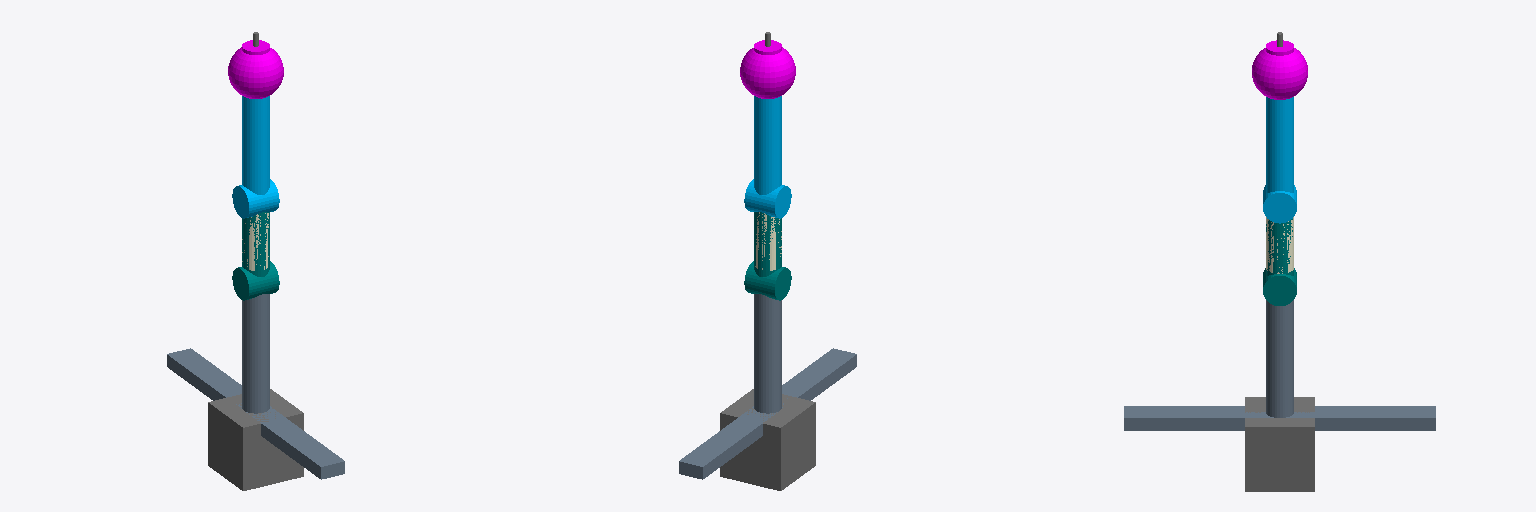
URDF robot description (test_robot):
<?xml version="1.0" ?>
<robot name="test_robot">
    <link name="base_link">
        <inertial>
            <mass value="1.0"/>
            <inertia ixx="0.010416666666666666" iyy="0.010416666666666666" izz="0.010416666666666666" ixy="0.0" ixz="0.0" iyz="0.0"/>
            <origin xyz="0 0 0" rpy="0 0 0"/>
        </inertial>
        <visual>
            <origin xyz="0 0 0" rpy="0 0 0"/>
            <geometry>
                <box size="0.25 0.25 0.25"/>
            </geometry>
            <material name="gray">
                <color rgba="0.5 0.5 0.5 1"/>
            </material>
        </visual>
    </link>
    <joint name="joint0_fixed" type="fixed">
        <parent link="base_link"/>
        <child link="link0_fixed"/>
        <origin xyz="0 0 0.125" rpy="0 0 0"/>
    </joint>
    <link name="link0_fixed">
        <inertial>
            <mass value="1.0"/>
            <inertia ixx="0.10166666666666668" iyy="0.10166666666666668" izz="0.10166666666666668" ixy="0.0" ixz="0.0" iyz="0.0"/>
            <origin xyz="0 0 -0.025" rpy="0 0 0"/>
        </inertial>
        <visual>
            <origin xyz="0 0 -0.025" rpy="0 0 0"/>
            <geometry>
                <box size="0.1 1.1 0.05"/>
            </geometry>
            <material name="lightslategrey">
                <color rgba="0.4666666666666667 0.5333333333333333 0.6 1.0"/>
            </material>
        </visual>
        <collision>
            <origin xyz="0 0 -0.025" rpy="0 0 0"/>
            <geometry>
                <box size="0.1 1.1 0.05"/>
            </geometry>
        </collision>
    </link>
    <joint name="joint0" type="prismatic">
        <parent link="link0_fixed"/>
        <child link="link0"/>
        <origin xyz="0 0 0" rpy="0 0 0"/>
        <axis xyz="0 1 0"/>
        <limit lower="-0.5" upper="0.5" effort="10" velocity="1"/>
    </joint>
    <link name="link0">
        <inertial>
            <mass value="1.0"/>
            <inertia ixx="0.021458333333333333" iyy="0.021458333333333333" izz="0.0012500000000000002" ixy="0.0" ixz="0.0" iyz="0.0"/>
            <origin xyz="0 0 0.25" rpy="0 0 0"/>
        </inertial>
        <visual>
            <origin xyz="0 0 0.25" rpy="0 0 0"/>
            <geometry>
                <cylinder length="0.5" radius="0.05"/>
            </geometry>
            <material name="lightslategrey">
                <color rgba="0.4666666666666667 0.5333333333333333 0.6 1.0"/>
            </material>
        </visual>
        <collision>
            <origin xyz="0 0 0.25" rpy="0 0 0"/>
            <geometry>
                <cylinder length="0.5" radius="0.05"/>
            </geometry>
        </collision>
    </link>
    <joint name="joint_viz1" type="fixed">
        <parent link="link0"/>
        <child link="joint_viz_link1"/>
        <origin xyz="0 0 0.5" rpy="0 0 0"/>
    </joint>
    <link name="joint_viz_link1">
        <inertial>
            <mass value="0.0"/>
            <inertia ixx="0.0" iyy="0.0" izz="0.0" ixy="0.0" ixz="0.0" iyz="0.0"/>
            <origin xyz="0 0 0" rpy="0 1.57 0"/>
        </inertial>
        <visual>
            <origin xyz="0 0 0" rpy="0 1.57 0"/>
            <geometry>
                <cylinder length="0.125" radius="0.06"/>
            </geometry>
            <material name="darkcyan">
                <color rgba="0.0 0.5450980392156862 0.5450980392156862 1.0"/>
            </material>
        </visual>
    </link>
    <joint name="joint1" type="revolute">
        <parent link="link0"/>
        <child link="link1"/>
        <origin xyz="0 0 0.5" rpy="0 0 0"/>
        <axis xyz="1 0 0"/>
        <limit lower="-3.14" upper="3.14" effort="10" velocity="1"/>
    </joint>
    <link name="link1">
        <inertial>
            <mass value="1.0"/>
            <inertia ixx="0.008125" iyy="0.008125" izz="0.0012500000000000002" ixy="0.0" ixz="0.0" iyz="0.0"/>
            <origin xyz="0 0 0.15" rpy="0 0 0"/>
        </inertial>
        <visual>
            <origin xyz="0 0 0.15" rpy="0 0 0"/>
            <geometry>
                <cylinder length="0.3" radius="0.05"/>
            </geometry>
            <material name="darkcyan">
                <color rgba="0.0 0.5450980392156862 0.5450980392156862 1.0"/>
            </material>
        </visual>
        <collision>
            <origin xyz="0 0 0.15" rpy="0 0 0"/>
            <geometry>
                <cylinder length="0.3" radius="0.05"/>
            </geometry>
        </collision>
    </link>
    <joint name="joint2" type="prismatic">
        <parent link="link1"/>
        <child link="link2"/>
        <origin xyz="0 0 0.061" rpy="0 0 0"/>
        <axis xyz="0 0 1"/>
        <limit lower="0" upper="0.25" effort="10" velocity="1"/>
    </joint>
    <link name="link2">
        <inertial>
            <mass value="1.0"/>
            <inertia ixx="0.00630175" iyy="0.00630175" izz="0.0012500000000000002" ixy="0.0" ixz="0.0" iyz="0.0"/>
            <origin xyz="0 0 0.1305" rpy="0 0 0"/>
        </inertial>
        <visual>
            <origin xyz="0 0 0.1305" rpy="0 0 0"/>
            <geometry>
                <cylinder length="0.261" radius="0.05"/>
            </geometry>
            <material name="lightyellow">
                <color rgba="1.0 1.0 0.8784313725490196 1.0"/>
            </material>
        </visual>
        <collision>
            <origin xyz="0 0 0.1305" rpy="0 0 0"/>
            <geometry>
                <cylinder length="0.261" radius="0.05"/>
            </geometry>
        </collision>
    </link>
    <joint name="joint_viz3" type="fixed">
        <parent link="link2"/>
        <child link="joint_viz_link3"/>
        <origin xyz="0 0 0.261" rpy="0 0 0"/>
    </joint>
    <link name="joint_viz_link3">
        <inertial>
            <mass value="0.0"/>
            <inertia ixx="0.0" iyy="0.0" izz="0.0" ixy="0.0" ixz="0.0" iyz="0.0"/>
            <origin xyz="0 0 0" rpy="0 1.57 0"/>
        </inertial>
        <visual>
            <origin xyz="0 0 0" rpy="0 1.57 0"/>
            <geometry>
                <cylinder length="0.125" radius="0.06"/>
            </geometry>
            <material name="deepskyblue">
                <color rgba="0.0 0.7490196078431373 1.0 1.0"/>
            </material>
        </visual>
    </link>
    <joint name="joint3" type="revolute">
        <parent link="link2"/>
        <child link="link3"/>
        <origin xyz="0 0 0.261" rpy="0 0 0"/>
        <axis xyz="1 0 0"/>
        <limit lower="-3.14" upper="3.14" effort="10" velocity="1"/>
    </joint>
    <link name="link3">
        <inertial>
            <mass value="1.0"/>
            <inertia ixx="0.021458333333333333" iyy="0.021458333333333333" izz="0.0012500000000000002" ixy="0.0" ixz="0.0" iyz="0.0"/>
            <origin xyz="0 0 0.25" rpy="0 0 0"/>
        </inertial>
        <visual>
            <origin xyz="0 0 0.25" rpy="0 0 0"/>
            <geometry>
                <cylinder length="0.5" radius="0.05"/>
            </geometry>
            <material name="deepskyblue">
                <color rgba="0.0 0.7490196078431373 1.0 1.0"/>
            </material>
        </visual>
        <collision>
            <origin xyz="0 0 0.25" rpy="0 0 0"/>
            <geometry>
                <cylinder length="0.5" radius="0.05"/>
            </geometry>
        </collision>
    </link>
    <joint name="sph_joint_x_1" type="revolute">
        <parent link="link3"/>
        <child link="sph_link_x_1"/>
        <origin xyz="0 0 0.5" rpy="0 0 0"/>
        <axis xyz="1 0 0"/>
        <limit lower="-3.14" upper="3.14" effort="10" velocity="1"/>
    </joint>
    <link name="sph_link_x_1">
        <inertial>
            <mass value="0.001"/>
            <inertia ixx="4.000000000000001e-06" iyy="4.000000000000001e-06" izz="4.000000000000001e-06" ixy="0.0" ixz="0.0" iyz="0.0"/>
            <origin xyz="0 0 0" rpy="0 0 0"/>
        </inertial>
        <visual>
            <origin xyz="0 0 0" rpy="0 0 0"/>
            <geometry>
                <sphere radius="0.1"/>
            </geometry>
            <material name="magenta">
                <color rgba="1.0 0.0 1.0 1.0"/>
            </material>
        </visual>
    </link>
    <joint name="sph_joint_y_1" type="revolute">
        <parent link="sph_link_x_1"/>
        <child link="sph_link_y_1"/>
        <origin xyz="0 0 0" rpy="0 0 0"/>
        <axis xyz="0 1 0"/>
        <limit lower="-3.14" upper="3.14" effort="10" velocity="1"/>
    </joint>
    <link name="sph_link_y_1">
        <inertial>
            <mass value="0.001"/>
            <inertia ixx="4.000000000000001e-06" iyy="4.000000000000001e-06" izz="4.000000000000001e-06" ixy="0.0" ixz="0.0" iyz="0.0"/>
            <origin xyz="0 0 0" rpy="0 0 0"/>
        </inertial>
        <visual>
            <origin xyz="0 0 0" rpy="0 0 0"/>
            <geometry>
                <sphere radius="0.1"/>
            </geometry>
            <material name="magenta">
                <color rgba="1.0 0.0 1.0 1.0"/>
            </material>
        </visual>
    </link>
    <joint name="sph_joint_z_1" type="revolute">
        <parent link="sph_link_y_1"/>
        <child link="sph_link_z_1"/>
        <origin xyz="0 0 0" rpy="0 0 0"/>
        <axis xyz="0 0 1"/>
        <limit lower="-3.14" upper="3.14" effort="10" velocity="1"/>
    </joint>
    <link name="sph_link_z_1">
        <inertial>
            <mass value="0.001"/>
            <inertia ixx="4.000000000000001e-06" iyy="4.000000000000001e-06" izz="4.000000000000001e-06" ixy="0.0" ixz="0.0" iyz="0.0"/>
            <origin xyz="0 0 0" rpy="0 0 0"/>
        </inertial>
        <visual>
            <origin xyz="0 0 0" rpy="0 0 0"/>
            <geometry>
                <sphere radius="0.1"/>
            </geometry>
            <material name="magenta">
                <color rgba="1.0 0.0 1.0 1.0"/>
            </material>
        </visual>
    </link>
    <joint name="joint4" type="fixed">
        <parent link="sph_link_z_1"/>
        <child link="link4"/>
        <origin xyz="0 0 0" rpy="0 0 0"/>
    </joint>
    <link name="link4">
        <inertial>
            <mass value="1.0"/>
            <inertia ixx="0.0014583333333333334" iyy="0.0014583333333333334" izz="0.0012500000000000002" ixy="0.0" ixz="0.0" iyz="0.0"/>
            <origin xyz="0 0 0.05" rpy="0 0 0"/>
        </inertial>
        <visual>
            <origin xyz="0 0 0.05" rpy="0 0 0"/>
            <geometry>
                <cylinder length="0.1" radius="0.05"/>
            </geometry>
            <material name="magenta">
                <color rgba="1.0 0.0 1.0 1.0"/>
            </material>
        </visual>
        <collision>
            <origin xyz="0 0 0.05" rpy="0 0 0"/>
            <geometry>
                <cylinder length="0.1" radius="0.05"/>
            </geometry>
        </collision>
    </link>
    <joint name="probe_joint" type="fixed">
        <parent link="link4"/>
        <child link="probe_link"/>
        <origin xyz="0 0 0.1" rpy="0 0 0"/>
    </joint>
    <link name="probe_link">
        <inertial>
            <mass value="0.0"/>
            <inertia ixx="0.0" iyy="0.0" izz="0.0" ixy="0.0" ixz="0.0" iyz="0.0"/>
            <origin xyz="0 0 0" rpy="0 0 0"/>
        </inertial>
        <visual>
            <origin xyz="0 0 0" rpy="0 0 0"/>
            <geometry>
                <cylinder length="0.1" radius="0.01"/>
            </geometry>
            <material name="gray">
                <color rgba="0.5 0.5 0.5 1"/>
            </material>
        </visual>
    </link>
    <joint name="end_effector_joint" type="fixed">
        <parent link="probe_link"/>
        <child link="end_effector"/>
        <origin xyz="0 0 0.1" rpy="0 0 0"/>
    </joint>
    <link name="end_effector">
        <inertial>
            <mass value="0.0"/>
            <inertia ixx="0.0" iyy="0.0" izz="0.0" ixy="0.0" ixz="0.0" iyz="0.0"/>
            <origin xyz="0 0 0" rpy="0 0 0"/>
        </inertial>
        <visual>
            <origin xyz="0 0 0" rpy="0 0 0"/>
            <geometry>
                <cylinder length="0" radius="0"/>
            </geometry>
            <material name="gray">
                <color rgba="0.5 0.5 0.5 1"/>
            </material>
        </visual>
    </link>
</robot>

--- Render facts (derived) ---
3 views of the same robot in one strip: view 1: azimuth 30°, elevation 25°; view 2: azimuth 150°, elevation 25°; view 3: azimuth 270°, elevation 25° (orthographic).
Model test_robot with 14 links and 13 joints (5 revolute, 2 prismatic, 6 fixed), rooted at base_link, posed every joint at zero.
Visible links, largest first — view 1: base_link, link0_fixed, link0, link3, sph_link_x_1, link1, joint_viz_link3, joint_viz_link1; view 2: base_link, link0_fixed, link0, link3, sph_link_x_1, link1, joint_viz_link3, joint_viz_link1; view 3: link0_fixed, base_link, link0, link3, sph_link_x_1, joint_viz_link1, joint_viz_link3, link1, link2.
Link boxes in pixels (x1=…): base_link: x1=208, y1=389, x2=303, y2=490; link0_fixed: x1=167, y1=348, x2=344, y2=479; link0: x1=242, y1=294, x2=269, y2=413; link3: x1=242, y1=96, x2=269, y2=194; sph_link_x_1: x1=228, y1=47, x2=283, y2=98; link1: x1=242, y1=212, x2=269, y2=276; joint_viz_link3: x1=232, y1=179, x2=279, y2=218; joint_viz_link1: x1=232, y1=261, x2=279, y2=300; base_link: x1=720, y1=389, x2=815, y2=490; link0_fixed: x1=679, y1=348, x2=856, y2=479; link0: x1=754, y1=294, x2=781, y2=413; link3: x1=754, y1=96, x2=781, y2=194; sph_link_x_1: x1=740, y1=47, x2=795, y2=98; link1: x1=754, y1=212, x2=781, y2=276; joint_viz_link3: x1=744, y1=179, x2=791, y2=218; joint_viz_link1: x1=744, y1=261, x2=791, y2=300; link0_fixed: x1=1124, y1=406, x2=1435, y2=430; base_link: x1=1245, y1=397, x2=1314, y2=491; link0: x1=1266, y1=300, x2=1293, y2=417; link3: x1=1266, y1=97, x2=1293, y2=192; sph_link_x_1: x1=1252, y1=48, x2=1307, y2=99; joint_viz_link1: x1=1263, y1=268, x2=1296, y2=305; joint_viz_link3: x1=1263, y1=185, x2=1296, y2=223; link1: x1=1266, y1=219, x2=1293, y2=275; link2: x1=1266, y1=217, x2=1293, y2=273.
Size in the robot's own frame: 0.25 by 1.1 by 1.77 metres.
Geometry: primitives only (box / cylinder / sphere), no mesh files.